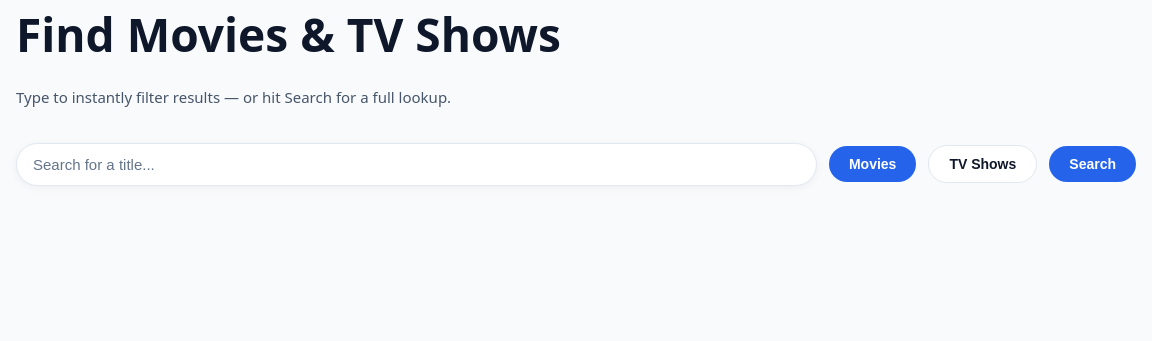
Test case: SearchPage – error handling › shows an error message when fetch rejects (generic network error)
This screenshot has width=1152, height=341.
Type "inception" into the field.
click(416, 164); type("inception")  # box 16,142 -> 817,186
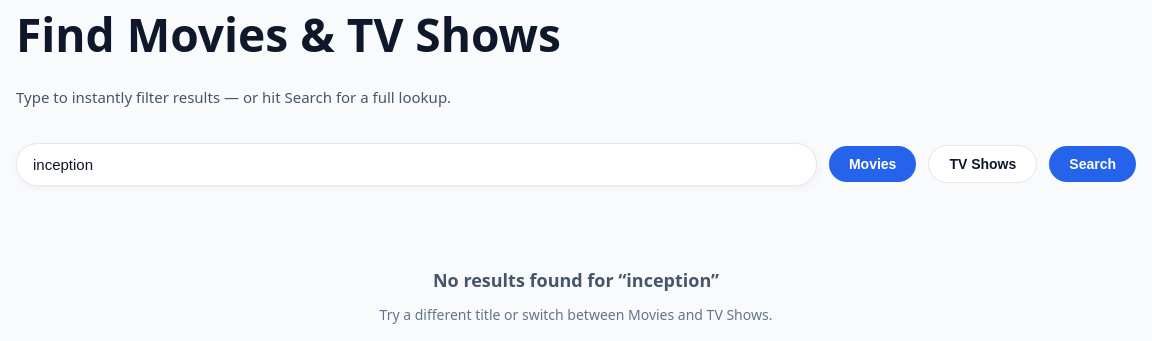
Click the button "Movies".
click(873, 164)  # box 829,146 -> 916,182
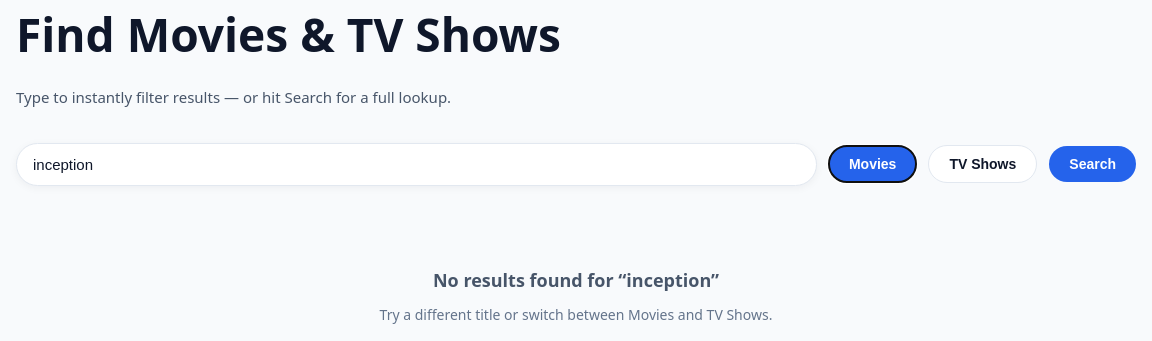
Click the button "Search".
click(1093, 164)  # box 1049,146 -> 1136,182
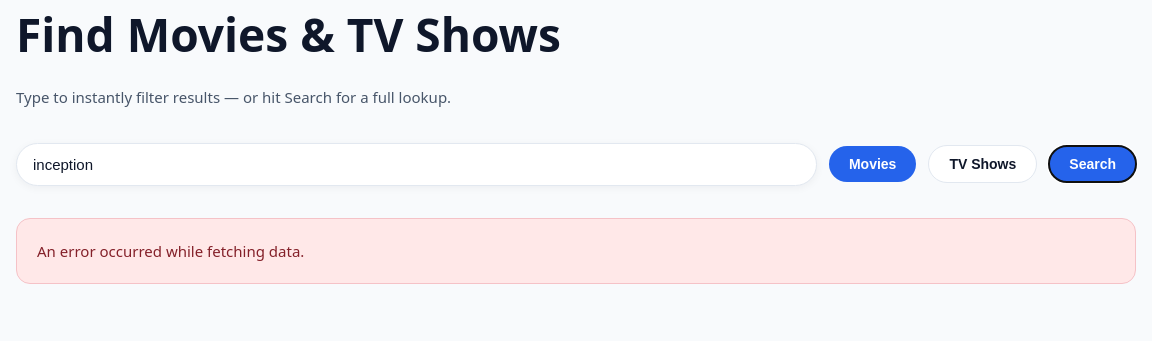
Expected: the text "An error occurred while fetching data." is shown, 16,218 -> 1136,284
